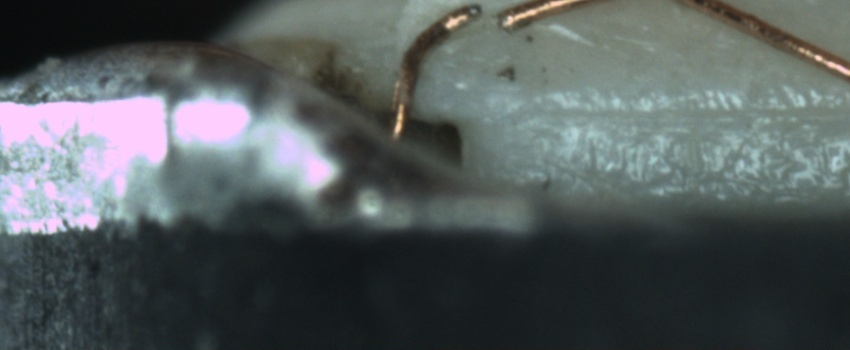DL: (491, 83, 850, 147)
